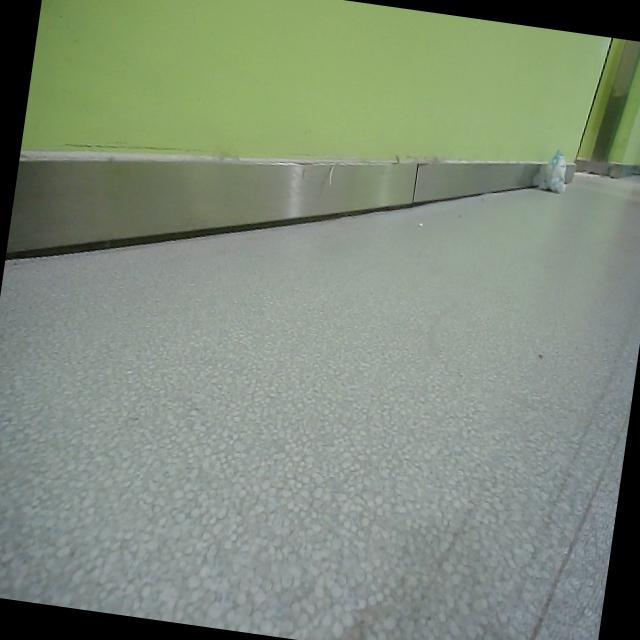xiaoba: (539, 147, 576, 197)
